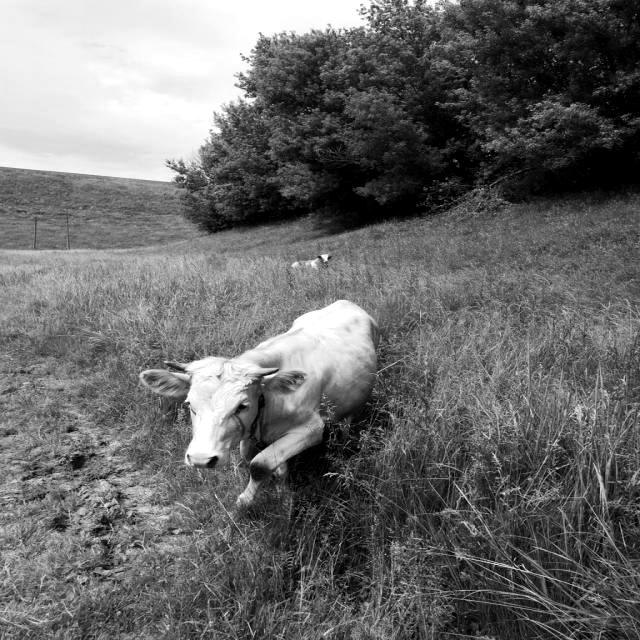COW: (140, 300, 379, 506)
